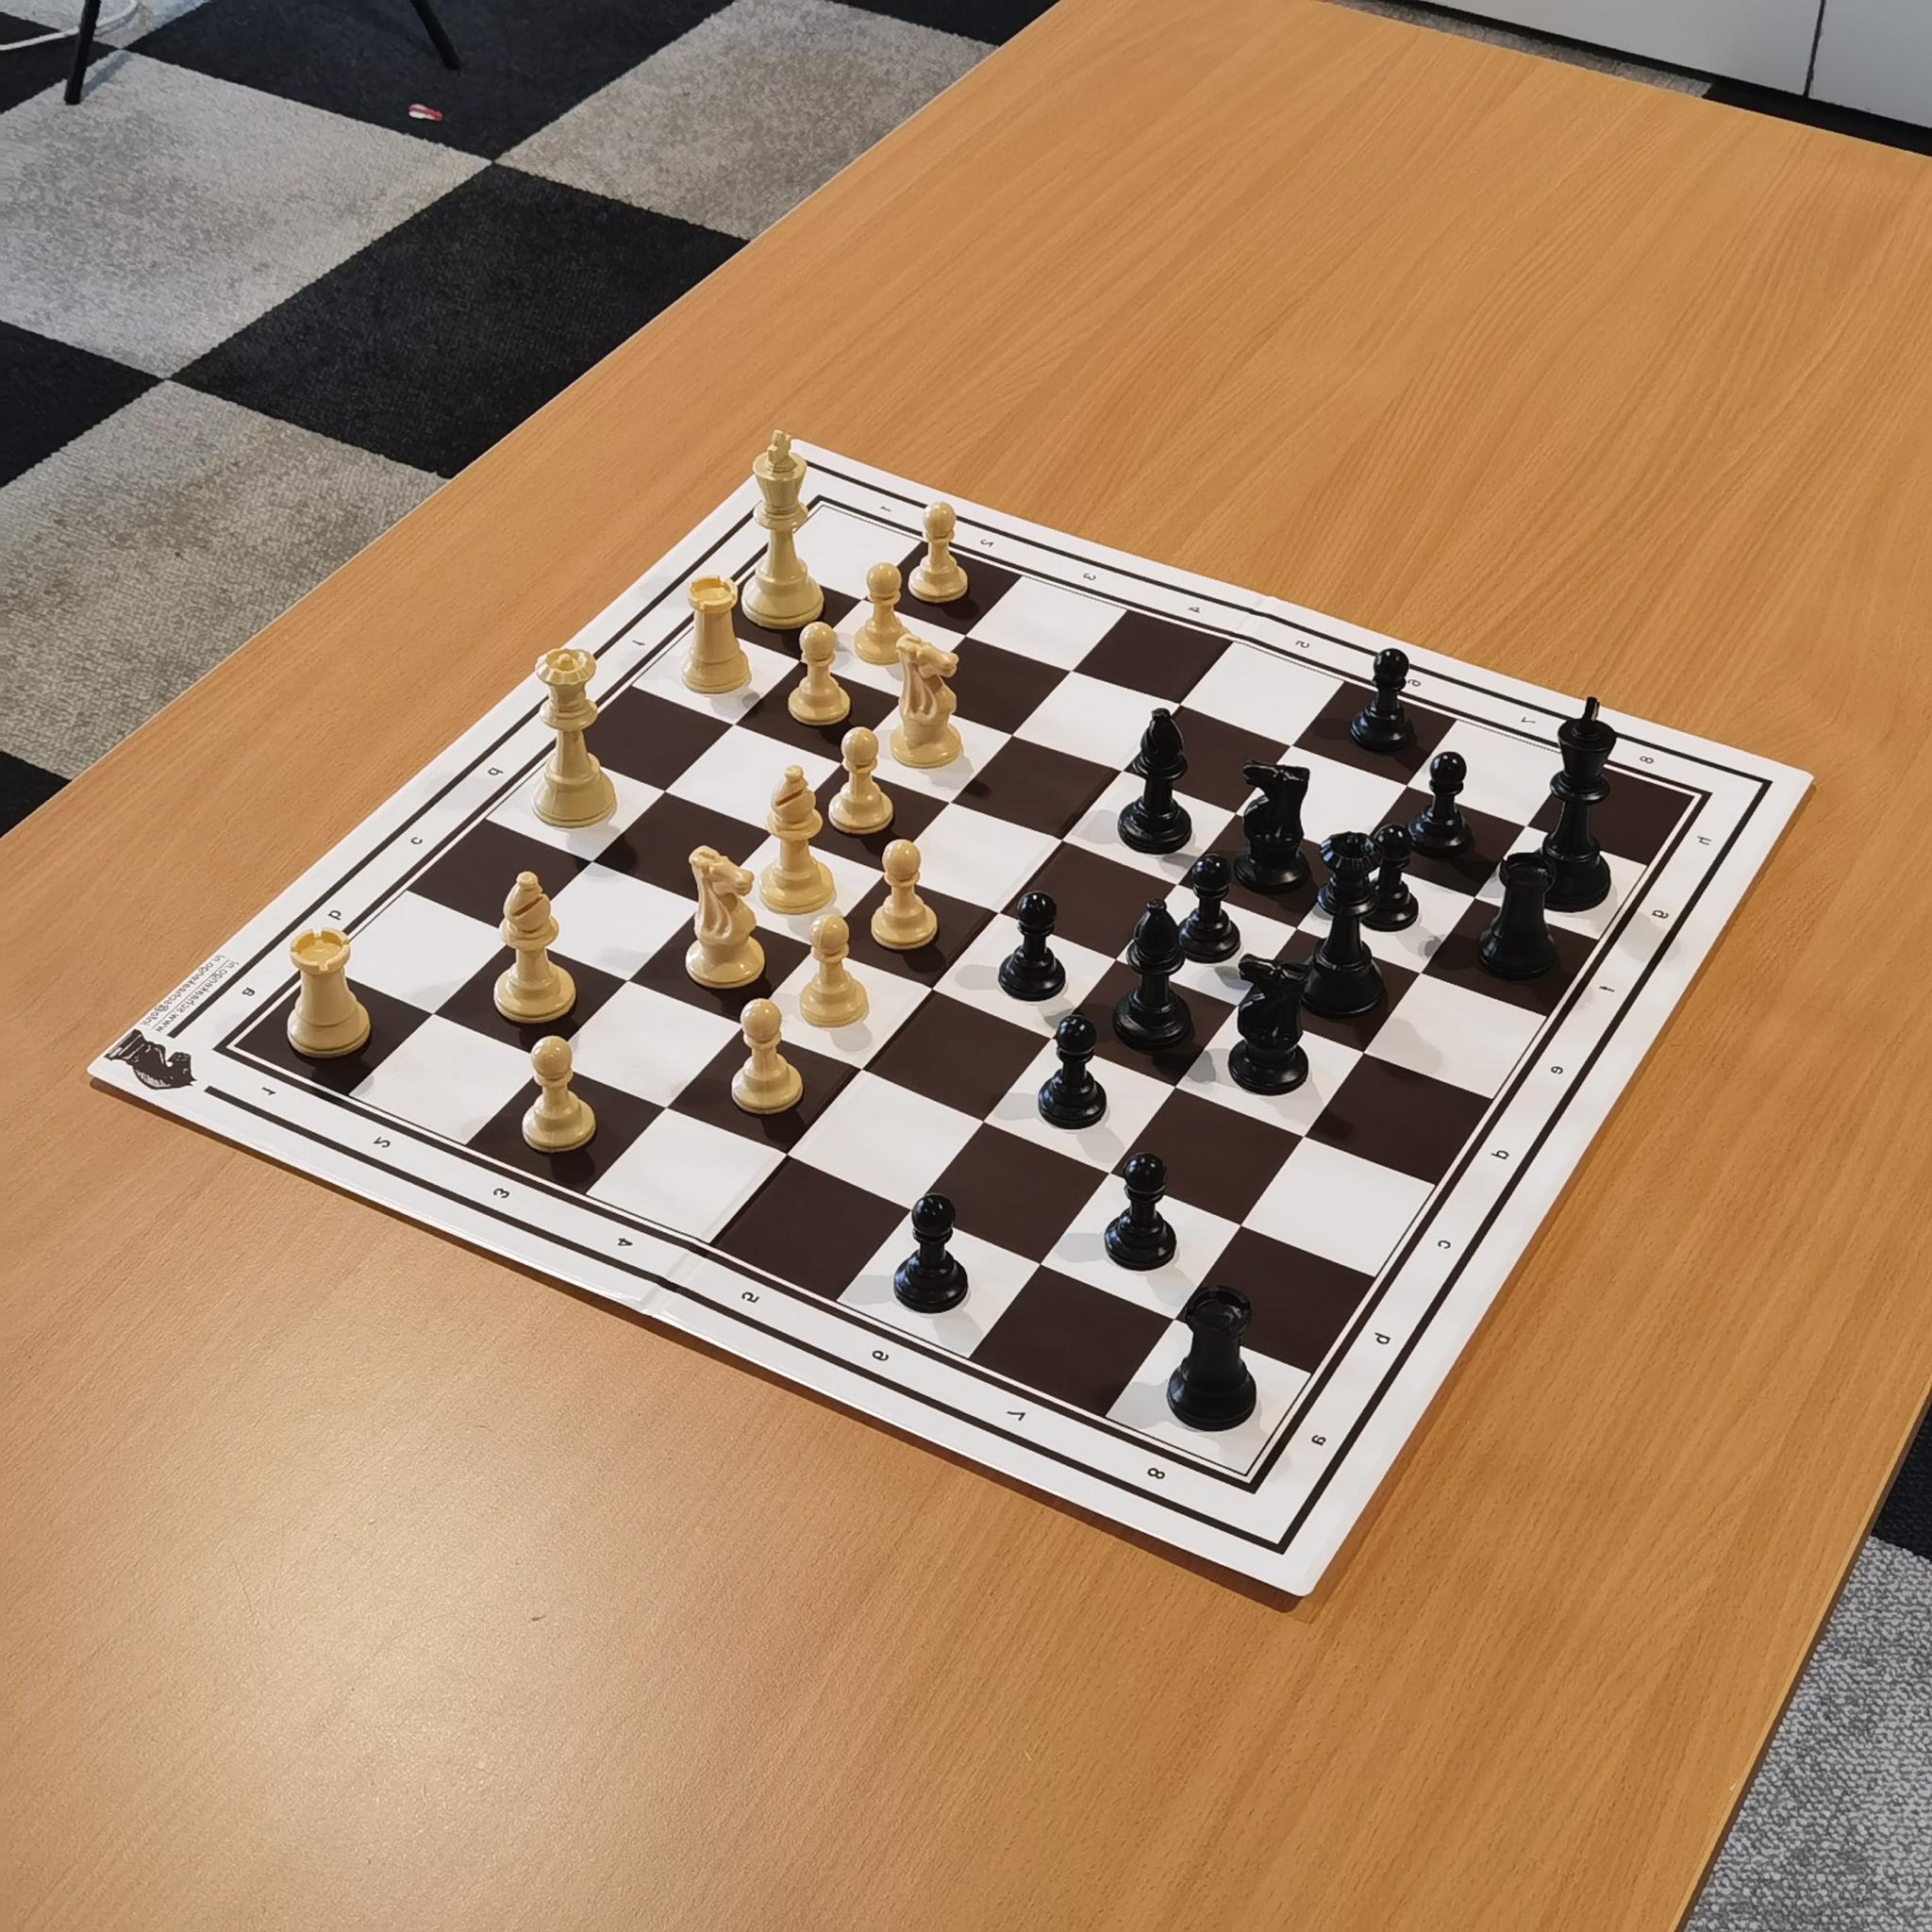corners: (209, 1021, 264, 1070), (1661, 770, 1713, 819), (1224, 1454, 1263, 1497), (805, 488, 842, 527)
eight: (1131, 1449, 1182, 1499), (1621, 738, 1660, 778)
one: (246, 1069, 301, 1115), (858, 492, 895, 527)
